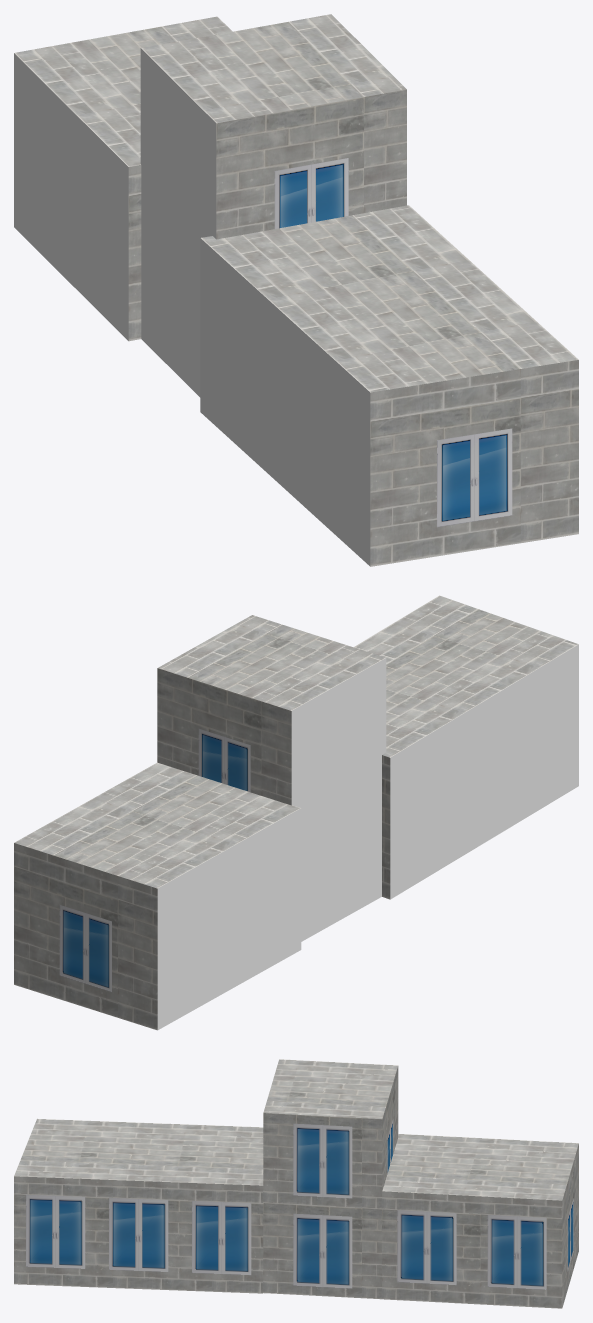
Rendered from unknow4.fbx.
3 views of the same model, one above another, from view 1: azimuth 30°, elevation 25°; view 2: azimuth 150°, elevation 25°; view 3: azimuth 270°, elevation 25° (orthographic). The views are drawn at different scales.
Visible parts, largest first — view 1: CityEngineShapeMaterial_1_m, CityEngineShapeMaterial_m, CityEngineShapeMaterial_2_m; view 2: CityEngineShapeMaterial_1_m, CityEngineShapeMaterial_m, CityEngineShapeMaterial_2_m; view 3: CityEngineShapeMaterial_1_m, CityEngineShapeMaterial_2_m.
Boxes of the visible parts, left/top/right/bottom form: CityEngineShapeMaterial_1_m: left=14, top=14, right=578, bottom=566; CityEngineShapeMaterial_m: left=14, top=48, right=370, bottom=566; CityEngineShapeMaterial_2_m: left=274, top=158, right=512, bottom=527; CityEngineShapeMaterial_1_m: left=14, top=595, right=578, bottom=1030; CityEngineShapeMaterial_m: left=157, top=644, right=578, bottom=1029; CityEngineShapeMaterial_2_m: left=59, top=728, right=250, bottom=991; CityEngineShapeMaterial_1_m: left=14, top=1059, right=578, bottom=1308; CityEngineShapeMaterial_2_m: left=26, top=1119, right=573, bottom=1289.
Bounding box in the file's own units: 9.75 × 10 × 28.43.
